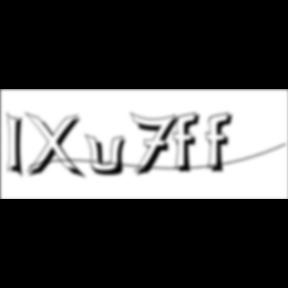7: (130, 111, 184, 179)
I: (7, 110, 31, 182)
X: (24, 112, 88, 182)
f: (174, 111, 206, 175), (206, 111, 238, 175)
u: (85, 132, 133, 178)
